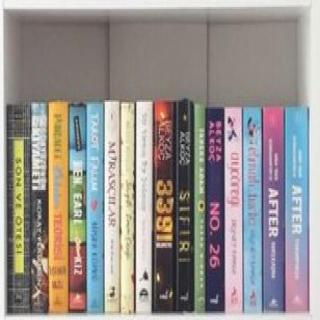book-spine: (7, 102, 31, 313), (262, 106, 286, 313), (154, 95, 176, 311), (287, 106, 309, 313), (48, 98, 69, 311), (30, 100, 49, 315), (176, 97, 194, 313), (136, 99, 154, 313), (87, 100, 105, 312), (245, 104, 263, 316), (206, 106, 224, 313), (224, 108, 242, 315), (104, 100, 121, 315), (70, 104, 87, 315), (122, 100, 136, 313), (196, 101, 208, 312)
